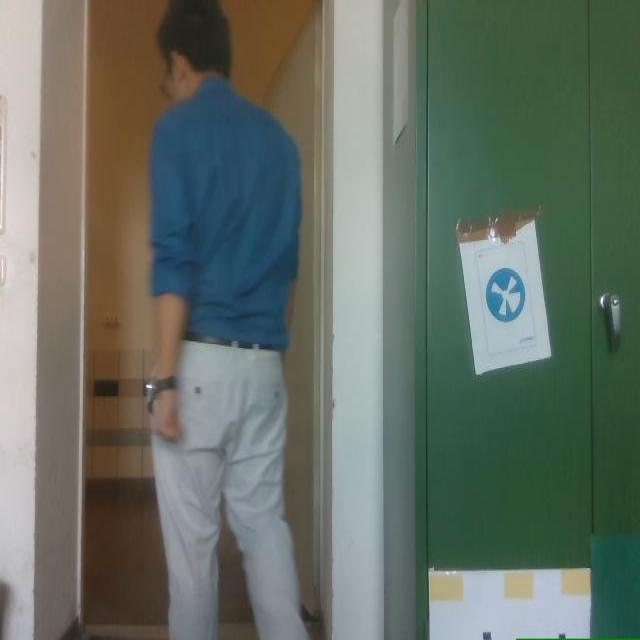humans: (146, 0, 307, 639)
objects: (414, 0, 639, 639)
